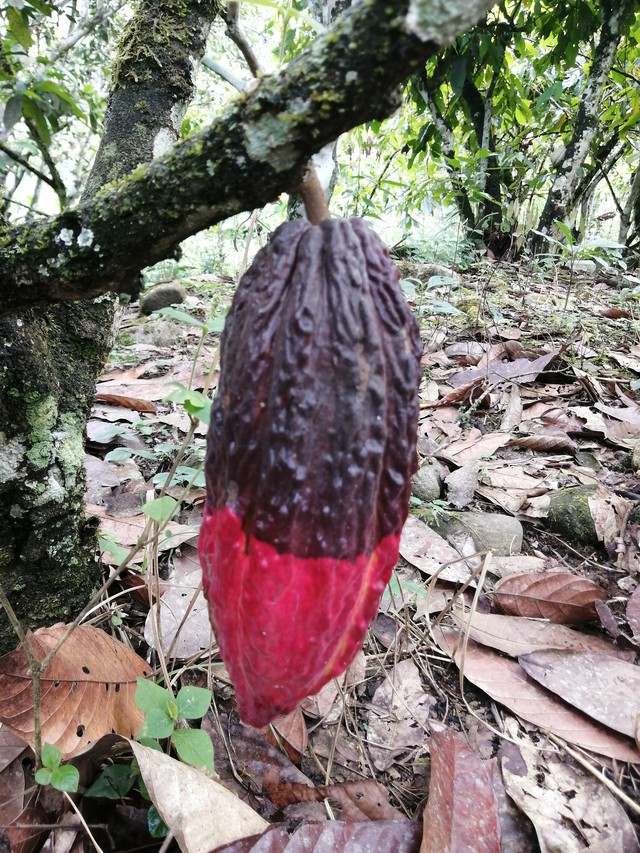phytophthora palmivora: (186, 203, 438, 735)
